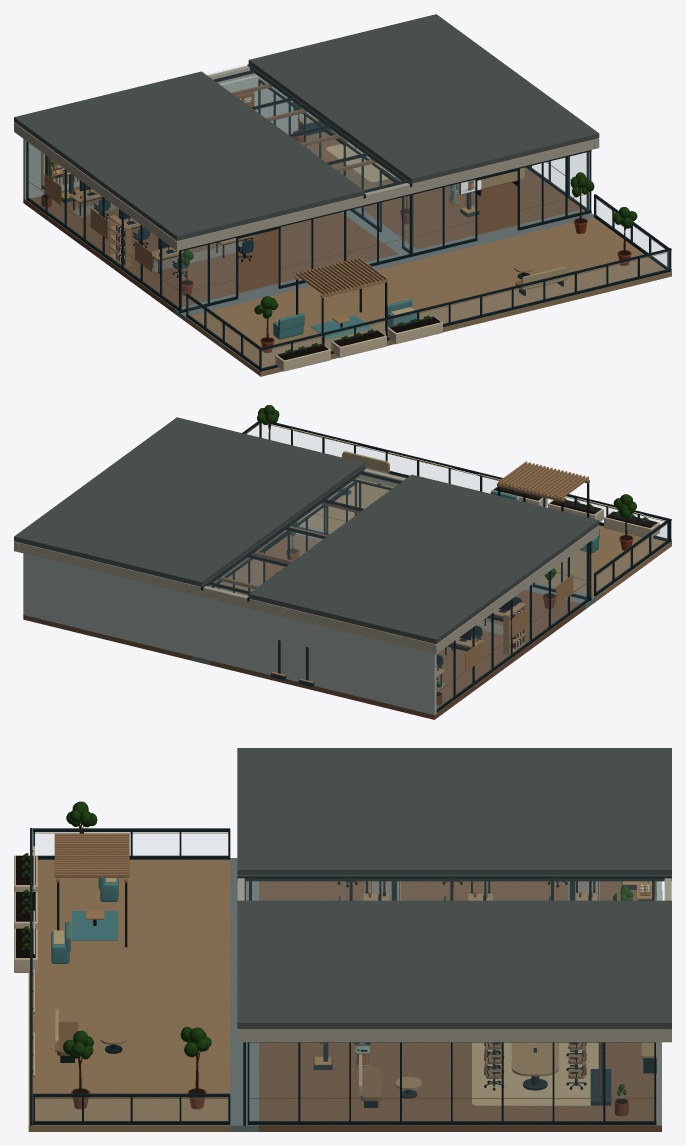
The model's file is company.glb.
3 renders of one model, top to bottom at view 1: azimuth 30°, elevation 25°; view 2: azimuth 150°, elevation 25°; view 3: azimuth 270°, elevation 25°, orthographic. The views are drawn at different scales.
Visible parts, largest first — view 1: ContinuousRoof, terrace_floor, office_floor, terrace_glass_1, meeting_floor, side_glass_-8_91, terrace_south_guard, terrace_glass_2, terrace_glass_0, terrace_threshold, north_wall, TerracePergola (+16 smaller); view 2: ContinuousRoof, north_wall, side_glass_-8_91, office_floor, terrace_south_guard, terrace_floor, meeting_floor, TerracePergola, terrace_west_guard, TerracePlanter_0, LibraryShelf, TerracePlanter_1 (+2 smaller); view 3: ContinuousRoof, terrace_floor, side_glass_12_91, meeting_floor, terrace_east_guard, office_floor, meeting_rug, terrace_west_guard, terrace_threshold, TerracePergola, meeting_table, TerraceRug (+12 smaller).
Part boxes in pixels (x1=…): ContinuousRoof: x1=14, y1=14, x2=599, y2=250; terrace_floor: x1=185, y1=217, x2=671, y2=376; office_floor: x1=23, y1=186, x2=398, y2=312; terrace_glass_1: x1=278, y1=177, x2=477, y2=288; meeting_floor: x1=292, y1=130, x2=582, y2=249; side_glass_-8_91: x1=26, y1=141, x2=179, y2=311; terrace_south_guard: x1=259, y1=248, x2=671, y2=371; terrace_glass_2: x1=517, y1=150, x2=591, y2=230; terrace_glass_0: x1=179, y1=236, x2=238, y2=313; terrace_threshold: x1=174, y1=209, x2=593, y2=321; north_wall: x1=23, y1=75, x2=311, y2=199; TerracePergola: x1=295, y1=257, x2=388, y2=343; ContinuousRoof: x1=14, y1=417, x2=599, y2=654; north_wall: x1=23, y1=553, x2=436, y2=715; side_glass_-8_91: x1=436, y1=543, x2=589, y2=712; office_floor: x1=210, y1=590, x2=585, y2=719; terrace_south_guard: x1=262, y1=423, x2=671, y2=542; terrace_floor: x1=297, y1=473, x2=671, y2=601; meeting_floor: x1=23, y1=531, x2=321, y2=660; TerracePergola: x1=497, y1=461, x2=589, y2=517; terrace_west_guard: x1=594, y1=519, x2=669, y2=596; TerracePlanter_0: x1=604, y1=511, x2=659, y2=538; LibraryShelf: x1=503, y1=602, x2=525, y2=654; TerracePlanter_1: x1=548, y1=500, x2=603, y2=521; ContinuousRoof: x1=237, y1=748, x2=671, y2=1042; terrace_floor: x1=28, y1=859, x2=230, y2=1131; side_glass_12_91: x1=247, y1=1042, x2=656, y2=1124; meeting_floor: x1=259, y1=1042, x2=661, y2=1131; terrace_east_guard: x1=33, y1=1093, x2=230, y2=1124; office_floor: x1=259, y1=881, x2=637, y2=900; meeting_rug: x1=472, y1=1042, x2=598, y2=1105; terrace_west_guard: x1=33, y1=828, x2=230, y2=859; terrace_threshold: x1=230, y1=858, x2=258, y2=1131; TerracePergola: x1=54, y1=833, x2=129, y2=947; meeting_table: x1=511, y1=1042, x2=558, y2=1090; TerraceRug: x1=72, y1=911, x2=117, y2=940.
Bounding box in the file's own units: 22.6 × 4.32 × 22.87.
Materials: 84 (23 with a texture image).
